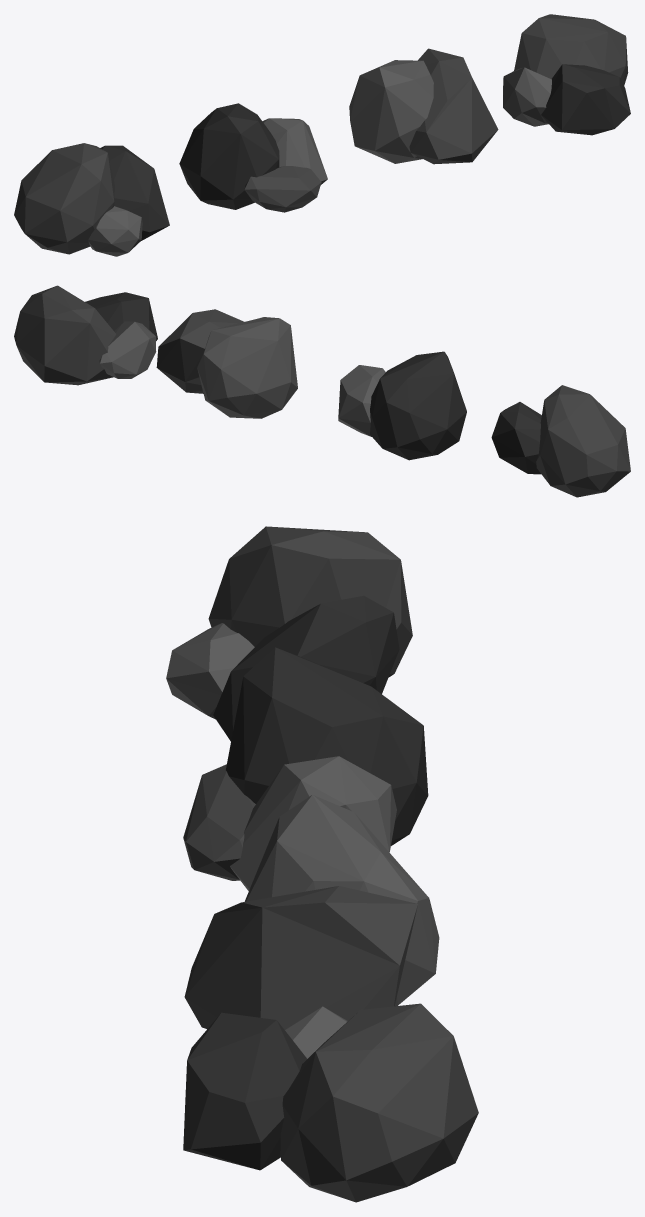
File: extra-large-rocks.fbx
3 renders of one model, top to bottom at view 1: azimuth 30°, elevation 25°; view 2: azimuth 150°, elevation 25°; view 3: azimuth 270°, elevation 25°, orthographic. The views are drawn at different scales.
Parts seen in each view (by area): view 1: rock_xl_03, rock_xl_01, rock_xl_02.001, rock_xl_02; view 2: rock_xl_01, rock_xl_02.001, rock_xl_03, rock_xl_02; view 3: rock_xl_02.001, rock_xl_01, rock_xl_02, rock_xl_03.
Part boxes in pixels (x1,y1,x2,y2): rock_xl_03: (14,143,169,256); rock_xl_01: (349,48,498,164); rock_xl_02.001: (503,14,630,135); rock_xl_02: (179,103,327,212); rock_xl_01: (156,309,297,418); rock_xl_02.001: (14,285,157,385); rock_xl_03: (491,385,630,497); rock_xl_02: (338,351,466,460); rock_xl_02.001: (183,1003,478,1202); rock_xl_01: (184,794,439,1029); rock_xl_02: (183,647,428,890); rock_xl_03: (166,526,412,741).
Size of the model in its own units: 2629 by 429 by 599.
